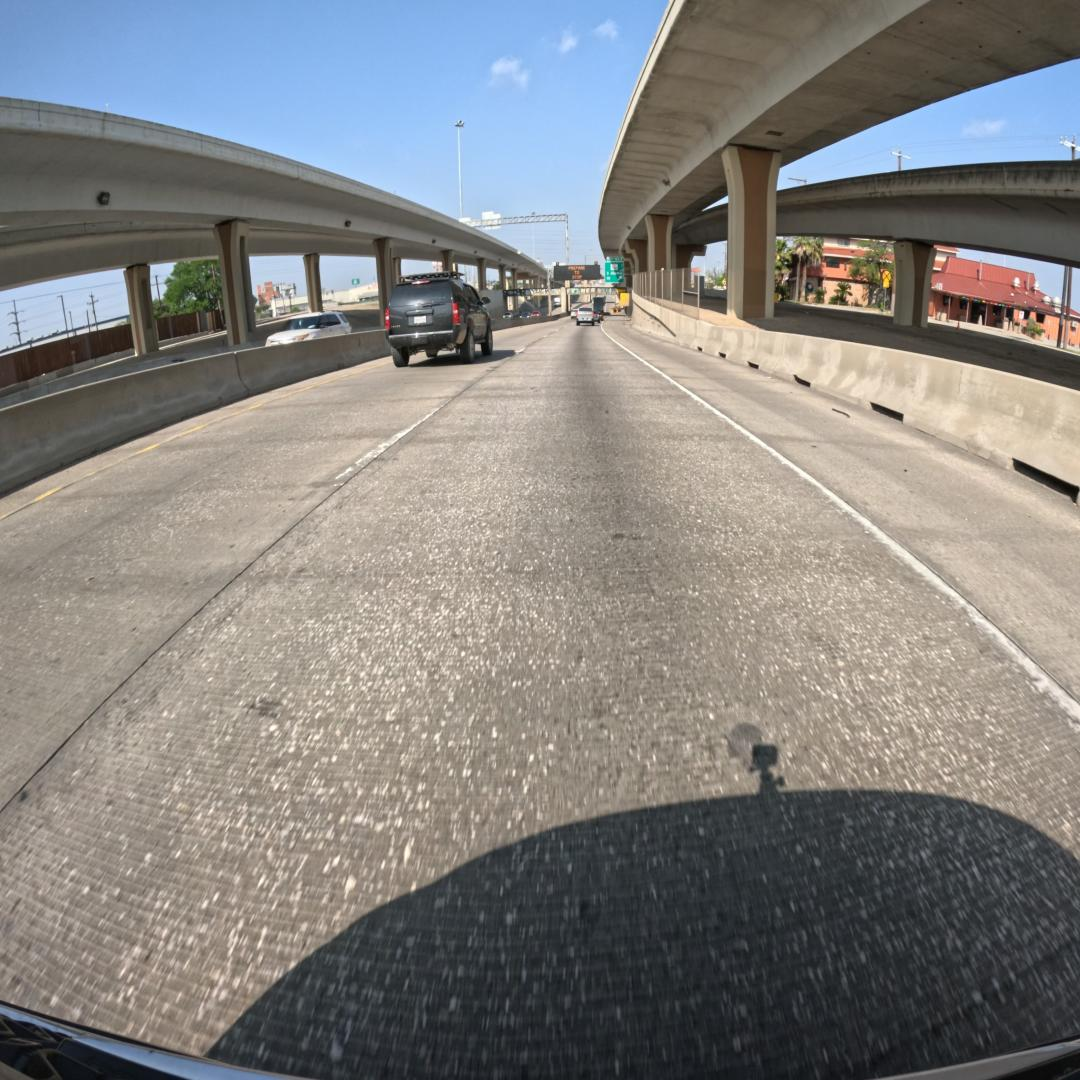lane0: (0, 325, 1080, 1080)
lane1: (0, 322, 560, 810)
